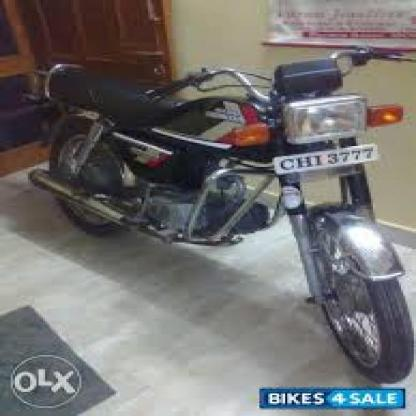bike: (28, 50, 416, 385)
